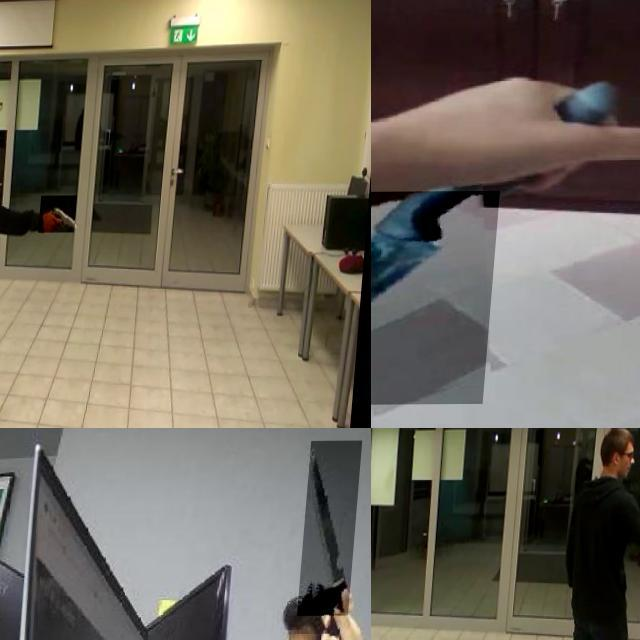-: (371, 191, 505, 405), (302, 441, 364, 616)
gun-knife-thesis - v11 Yolov5 augmented: (45, 196, 83, 233)
